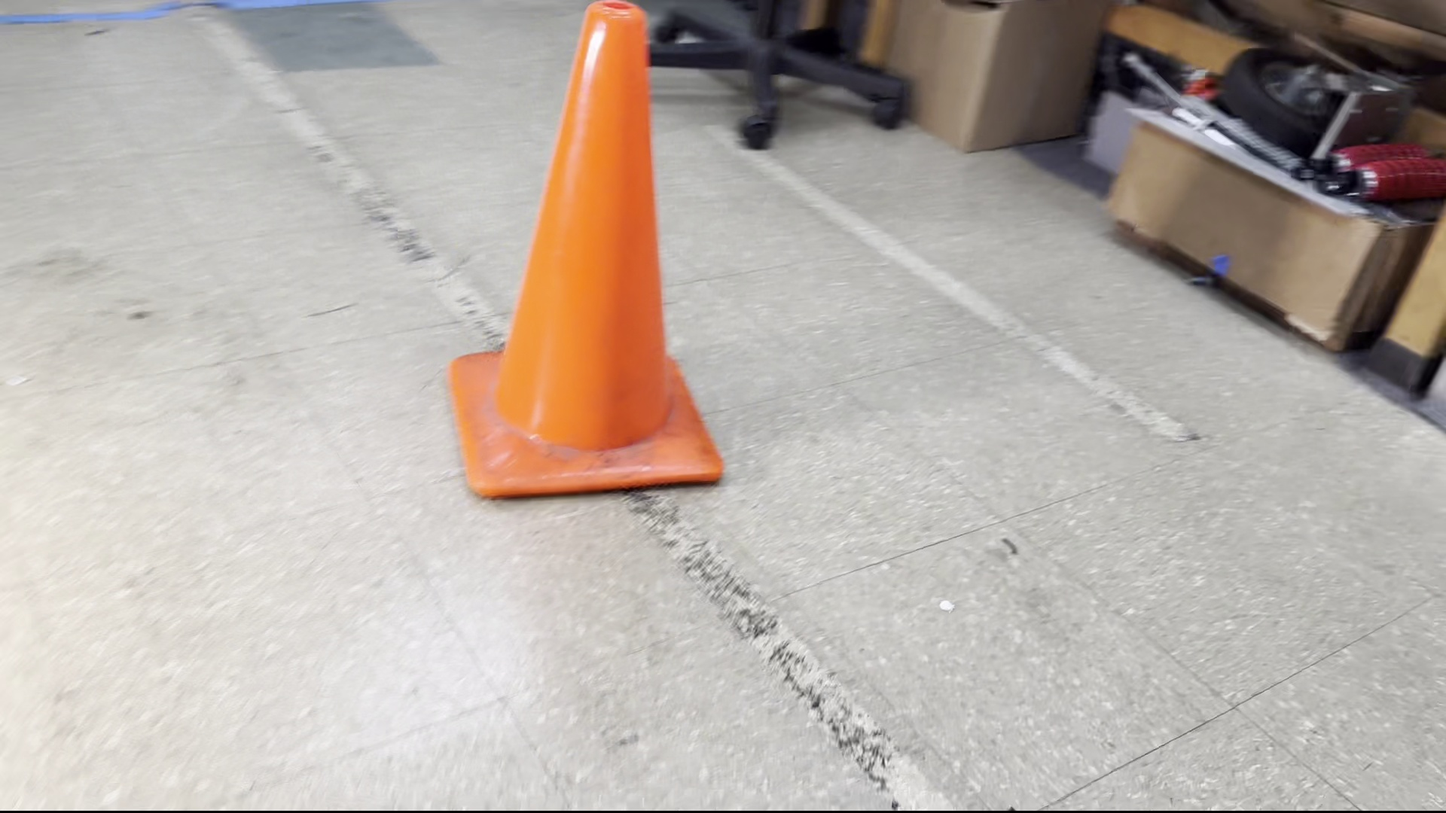traffic_cone: (447, 1, 725, 500)
